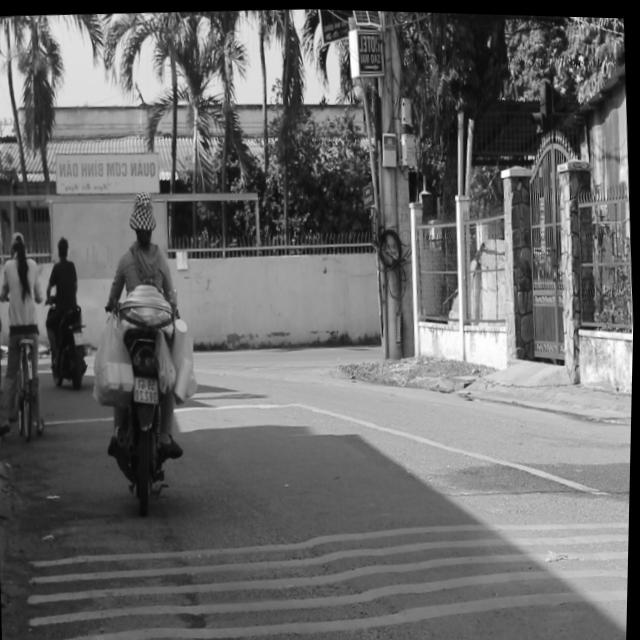licenseplate: (86, 183, 210, 508)
motorcyclist: (129, 188, 159, 244)
nohelmet: (135, 375, 161, 402)
